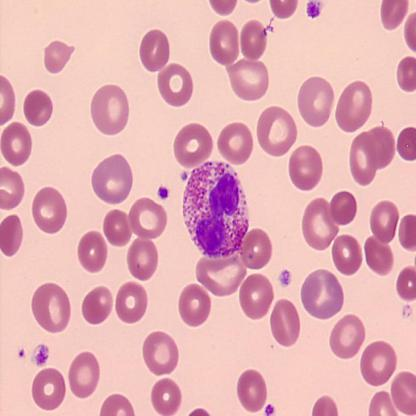Eosinophil: (182, 159, 249, 256)
